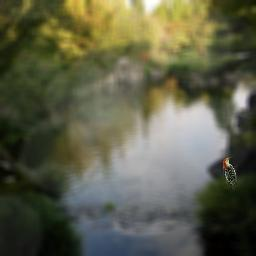Woodpecker: (223, 156, 242, 196)
